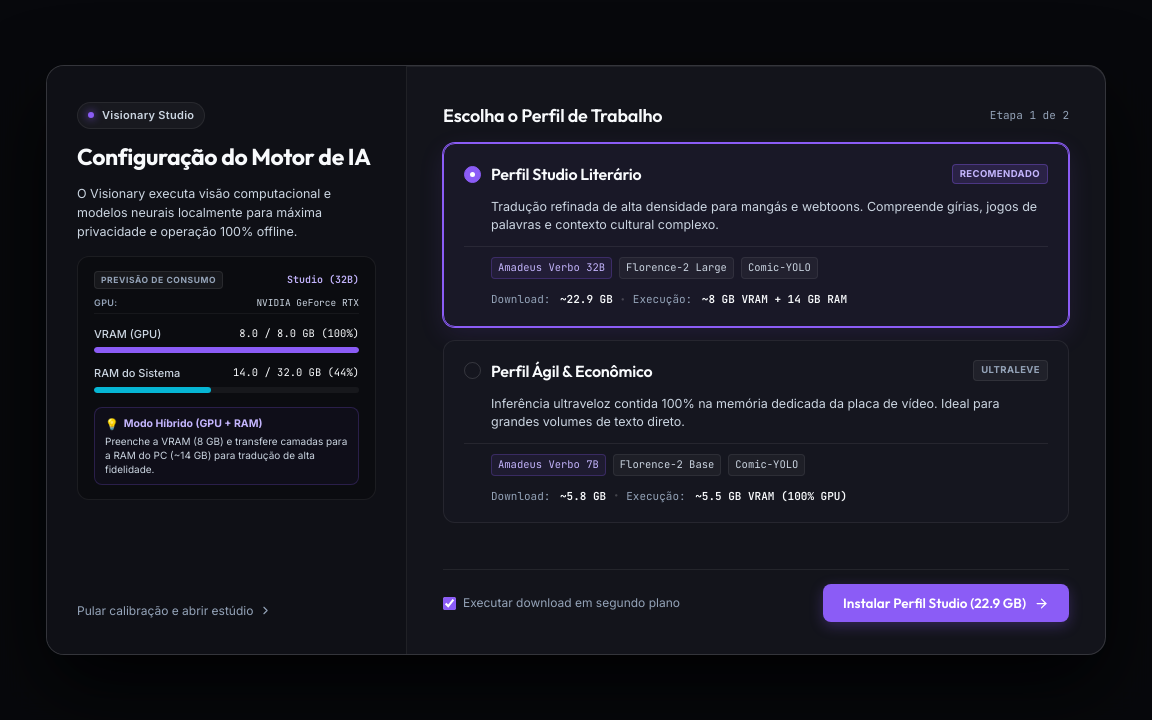
Test: OnboardingModal — EventBus Integration & Polling Suppression › displays Amadeus Verbo label and exposes retry banner when ensureOllamaRunning fails
Click the button "Instalar Perfil Studio (22.9 GB)": coordinates (946, 603) [823,584,1069,622]
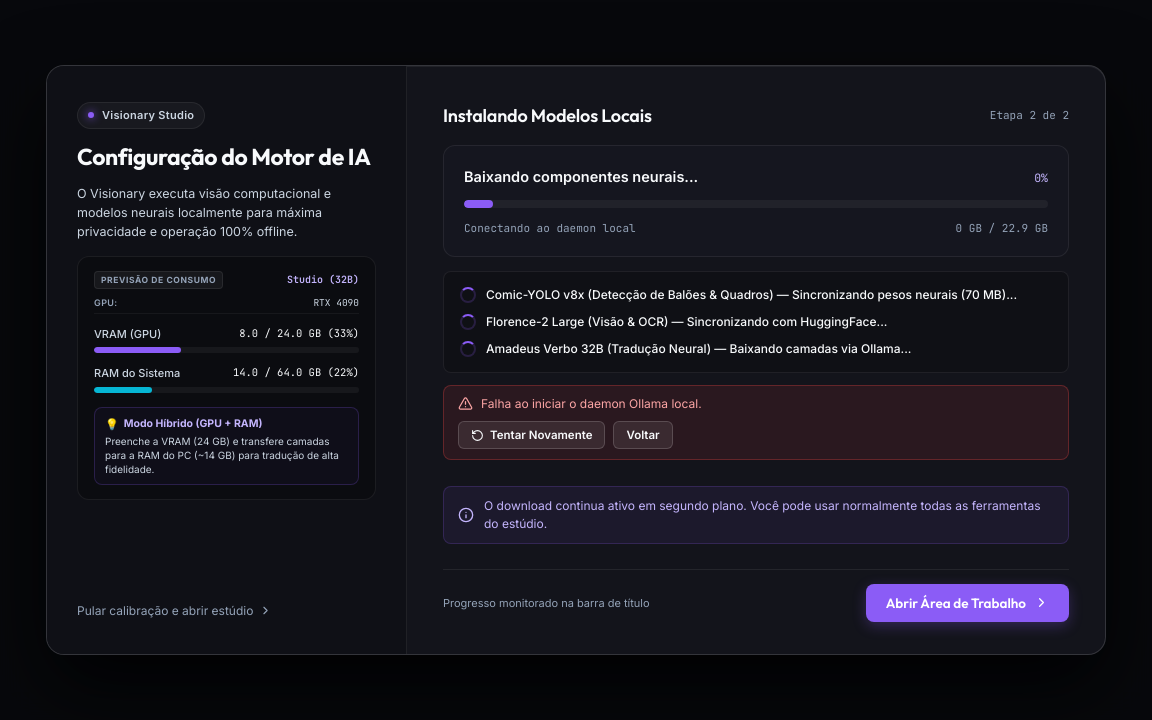
Check: the text "Amadeus Verbo 32B" is shown, box [486,341,604,356]
Check: the message shows "Falha ao iniciar o daemon Ollama local.", box [481,396,702,411]
Click the button "Tentar Novamente": coordinates (532, 435) [458,421,605,449]
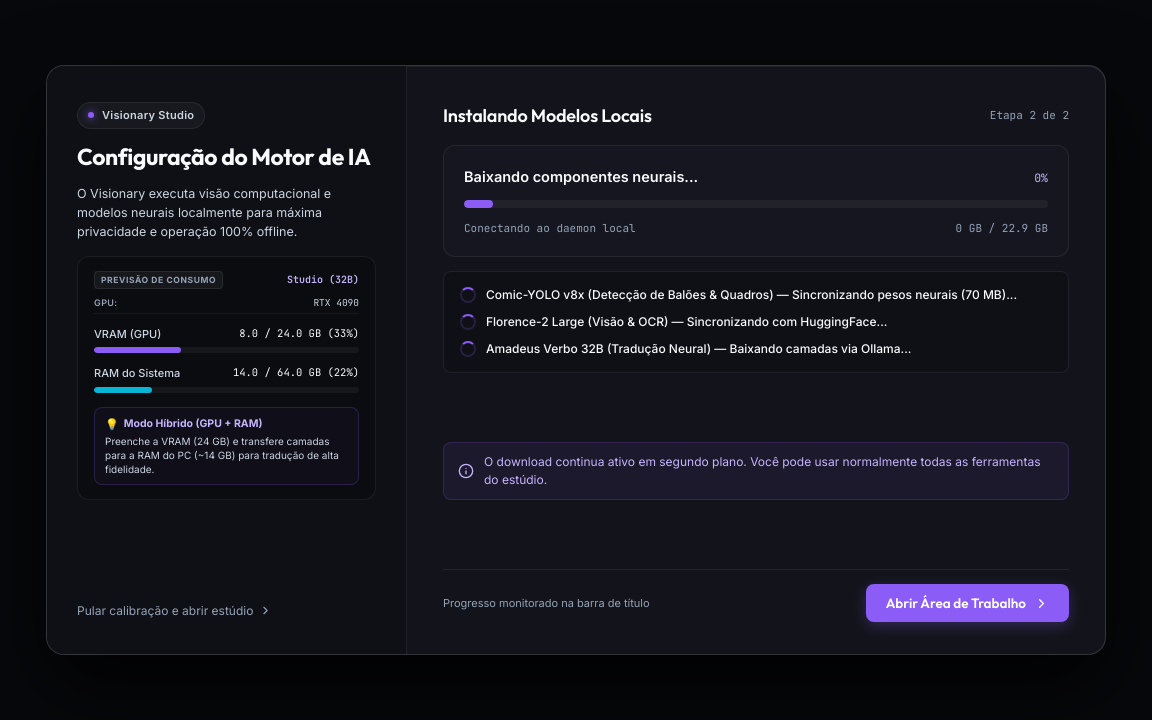
Check: the message "Falha ao iniciar o daemon Ollama local. Tentar Novamente Voltar" is gone
